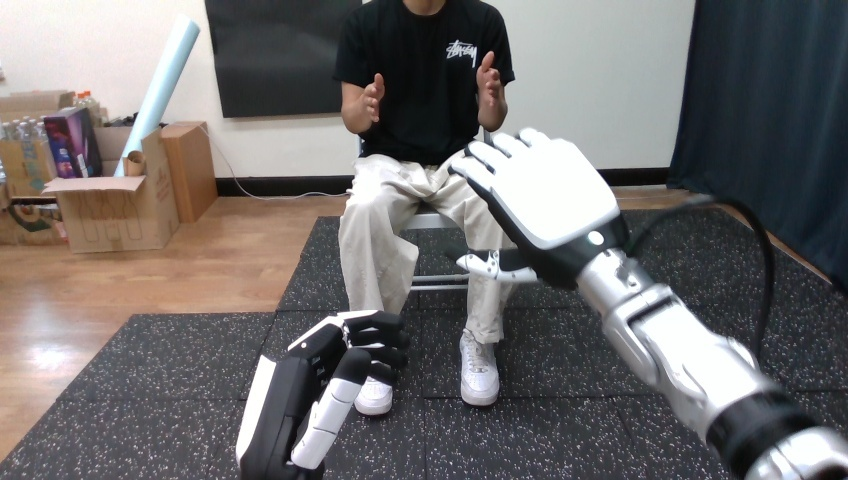left robot hand: (450, 128, 847, 478), (236, 310, 409, 479)
